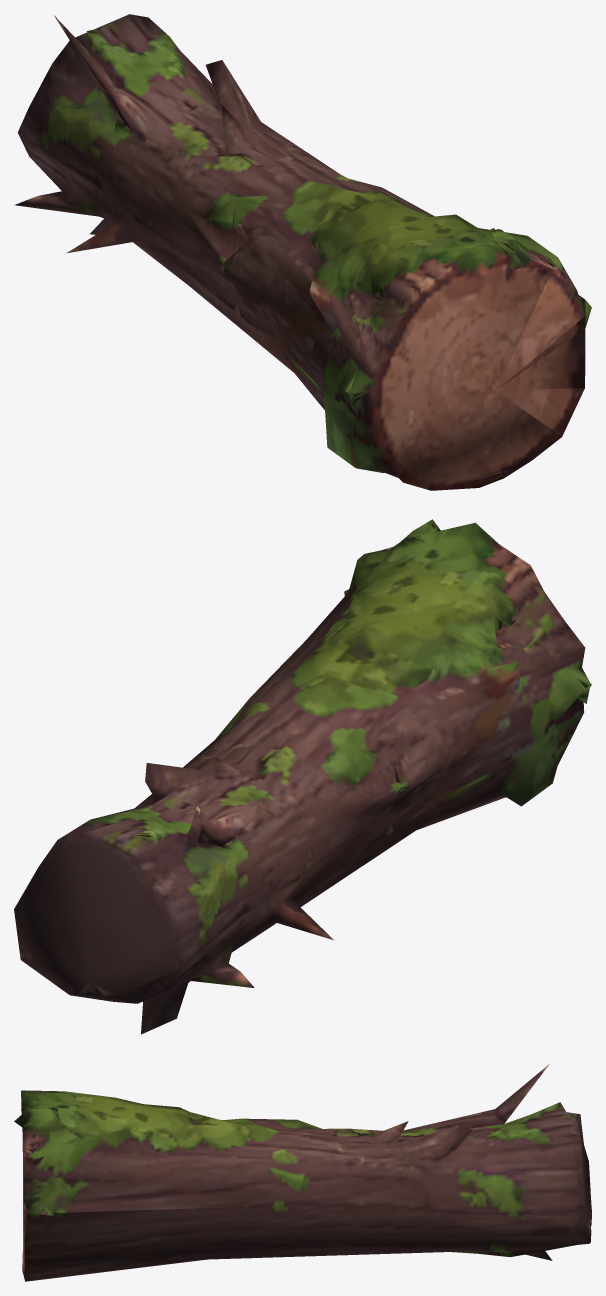
Rendered from kutuk_lod2.glb.
The picture shows the model from 3 angles, top to bottom: view 1: azimuth 30°, elevation 25°; view 2: azimuth 150°, elevation 25°; view 3: azimuth 270°, elevation 25°; orthographic projection. The views are drawn at different scales.
Visible parts, largest first — view 1: kutuk_lod2; view 2: kutuk_lod2; view 3: kutuk_lod2.
Boxes of the visible parts, x1,y1,x2,y2 form: kutuk_lod2: [14, 14, 591, 490]; kutuk_lod2: [14, 519, 591, 1034]; kutuk_lod2: [14, 1064, 591, 1281].
Size of the model in its own units: 1.16 by 1.03 by 2.98.
Materials: 1 (1 with a texture image).
